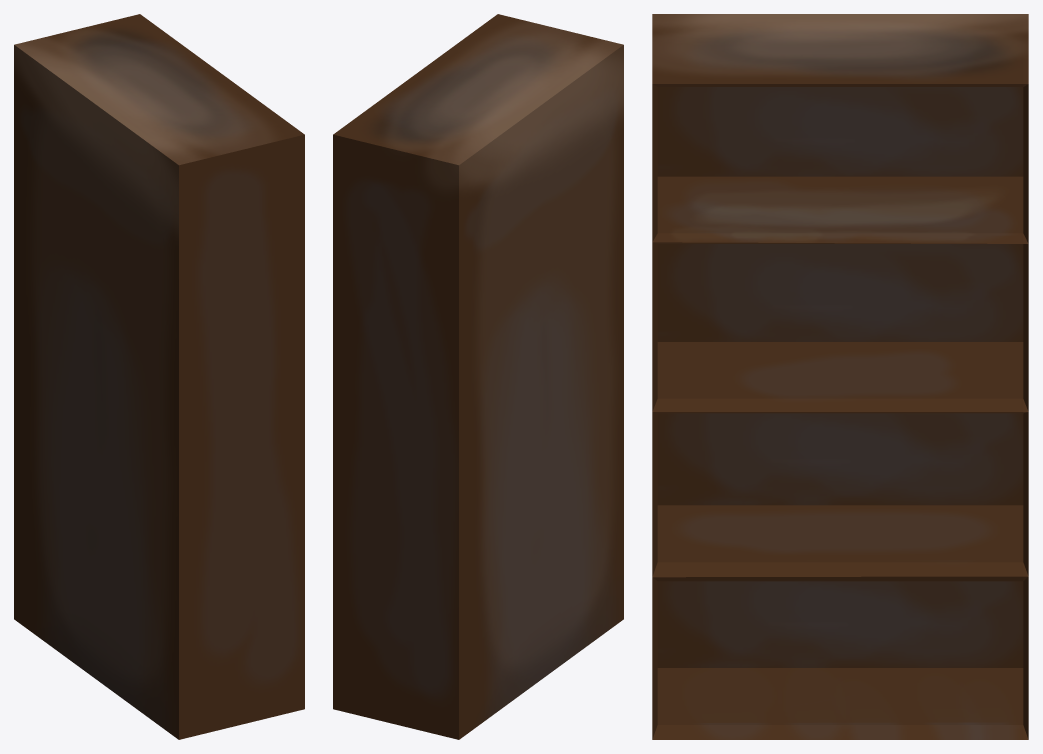
Rendered from library-shelves.fbx.
3 renders of one model, left to right at view 1: azimuth 30°, elevation 25°; view 2: azimuth 150°, elevation 25°; view 3: azimuth 270°, elevation 25°, orthographic. The views are drawn at different scales.
Parts seen in each view (by area): view 1: shelves; view 2: shelves; view 3: shelves.
Boxes of the visible parts, <box> form: shelves: <box>14,14,304,739</box>; shelves: <box>333,14,623,739</box>; shelves: <box>652,14,1028,739</box>.
Size of the model in its own units: 467 by 898 by 206.
